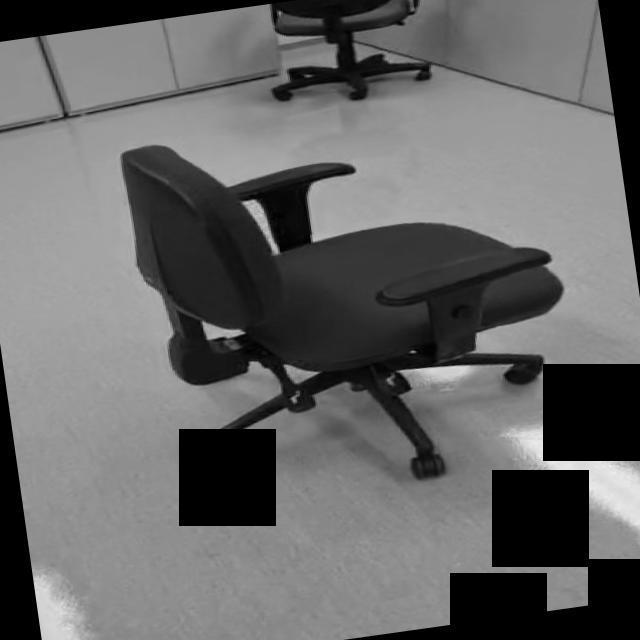chair: (119, 91, 586, 515)
